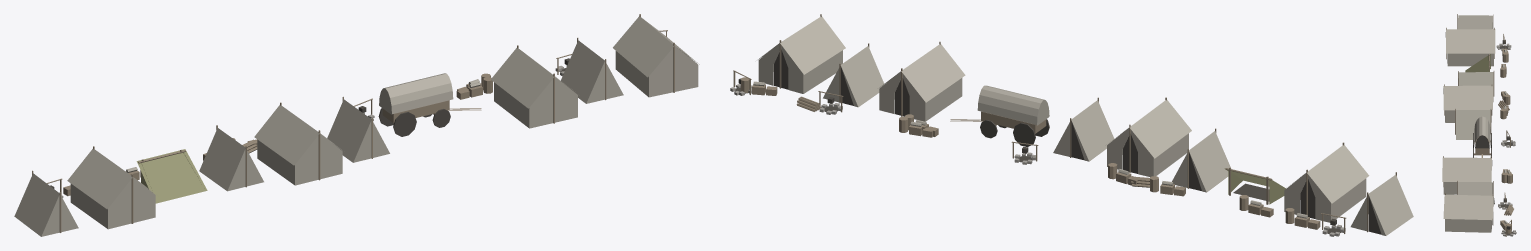
The model's file is landing_camp_east__camp_1835.glb.
3 renders of one model, left to right at view 1: azimuth 30°, elevation 25°; view 2: azimuth 150°, elevation 25°; view 3: azimuth 270°, elevation 25°, orthographic. The views are drawn at different scales.
Visible parts, largest first — view 1: landing_camp_east__camp_1835; view 2: landing_camp_east__camp_1835; view 3: landing_camp_east__camp_1835.
Boxes of the visible parts, x1=… form: landing_camp_east__camp_1835: x1=14, y1=14, x2=699, y2=236; landing_camp_east__camp_1835: x1=730, y1=14, x2=1413, y2=236; landing_camp_east__camp_1835: x1=1442, y1=14, x2=1516, y2=236.
Bounding box in the file's own units: 37.98 × 2.71 × 5.88.
